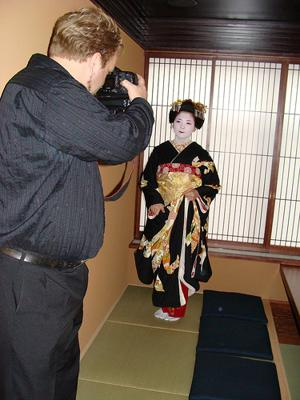person: (2, 8, 154, 400)
